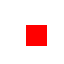square: (26, 25, 46, 45)
